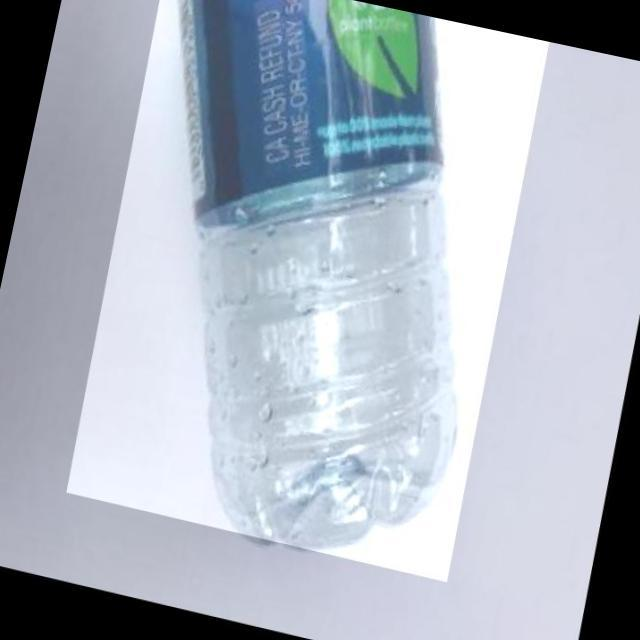good: (54, 0, 560, 583)
